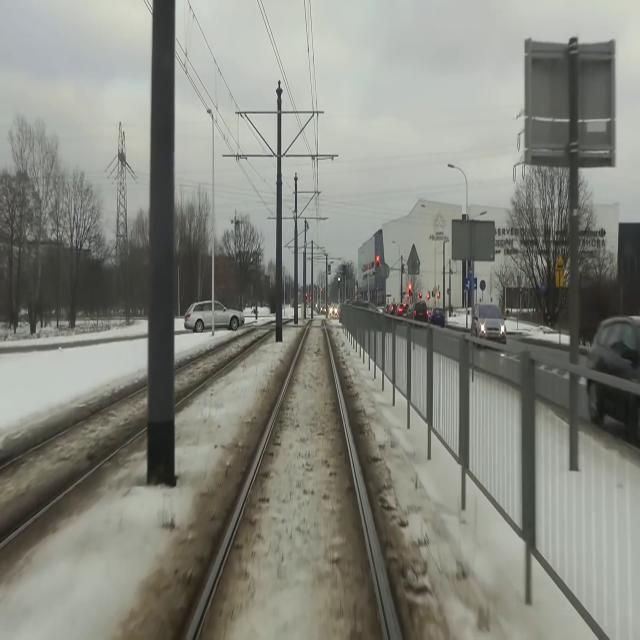rail-track: (193, 319, 396, 639), (0, 389, 146, 541), (175, 323, 275, 401)
